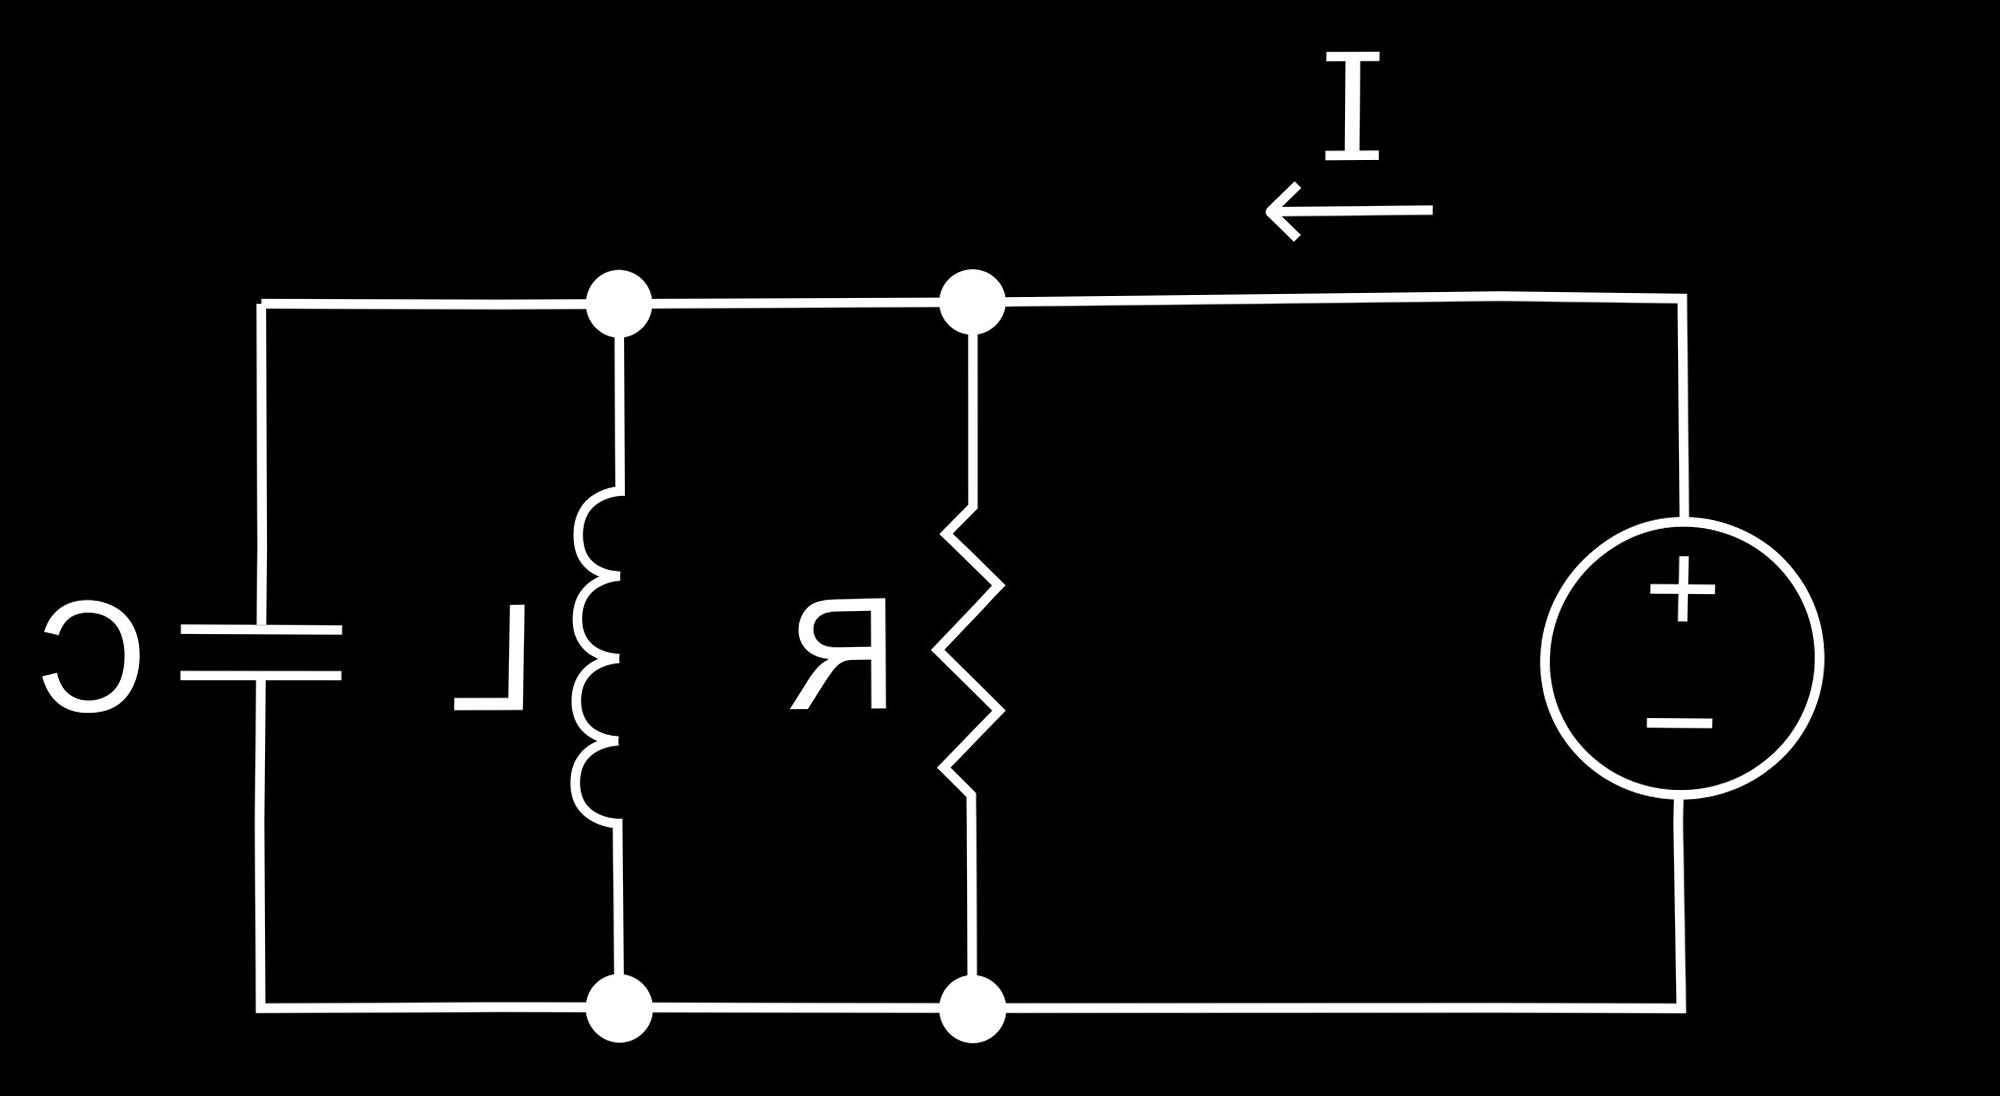Battery: (1483, 466, 1893, 848)
